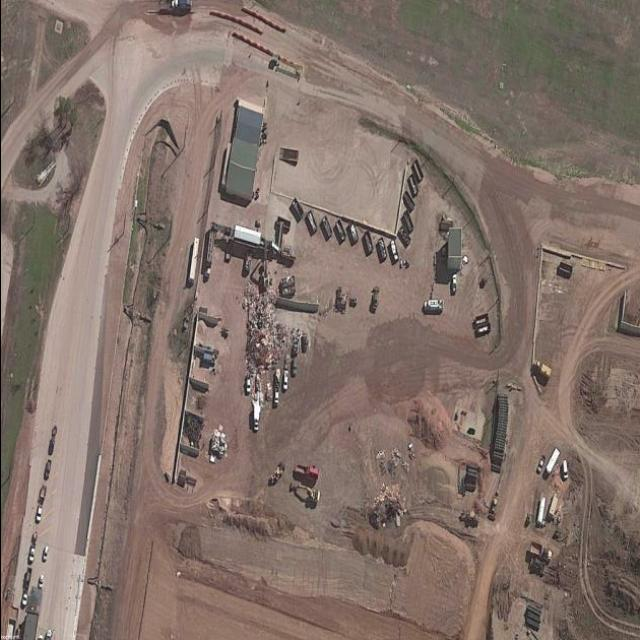dump_site: (240, 284, 286, 368)
